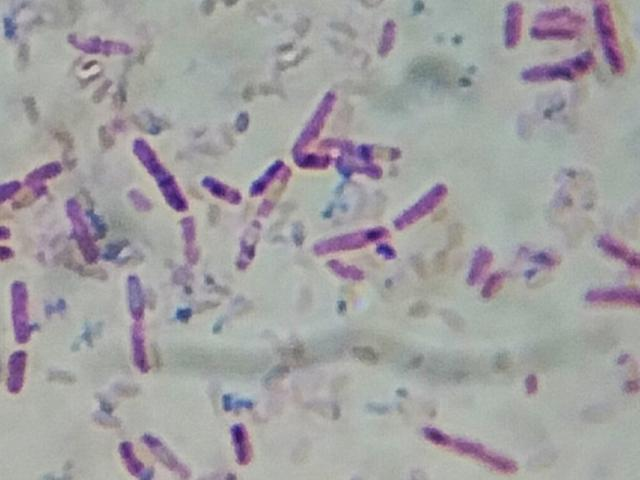E. coli: (425, 420, 526, 478), (133, 132, 192, 218), (591, 2, 634, 78), (141, 427, 198, 480), (311, 222, 399, 255), (65, 193, 104, 265), (298, 81, 337, 150), (396, 182, 453, 229), (523, 50, 600, 83), (591, 219, 640, 269), (586, 275, 640, 314), (533, 9, 588, 47), (71, 33, 137, 63), (221, 413, 256, 469), (202, 170, 248, 210), (248, 153, 287, 195), (328, 138, 409, 158), (128, 319, 155, 376), (8, 273, 31, 339), (239, 216, 263, 279), (377, 10, 405, 61), (505, 0, 528, 53), (328, 259, 371, 287), (8, 347, 31, 398), (465, 237, 488, 288), (26, 162, 72, 185), (116, 439, 143, 478), (126, 269, 145, 323), (342, 155, 386, 178), (483, 263, 503, 307), (2, 172, 24, 207), (302, 156, 338, 173), (0, 216, 16, 242), (2, 245, 13, 261)
